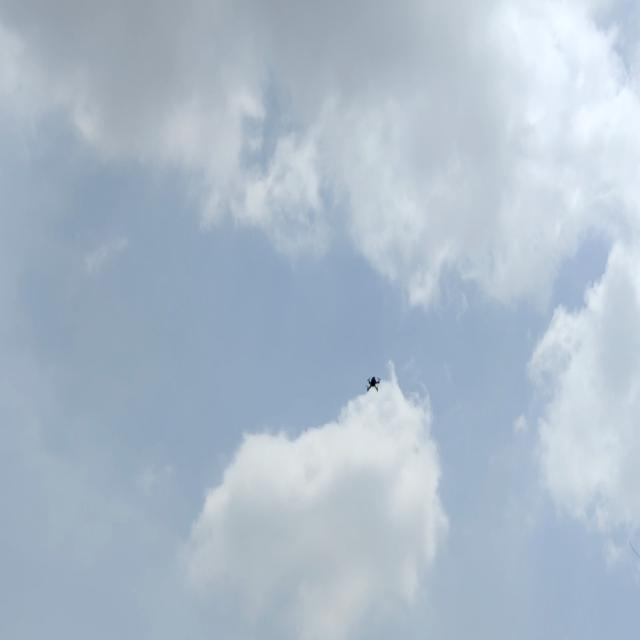drone: (359, 372, 388, 397)
